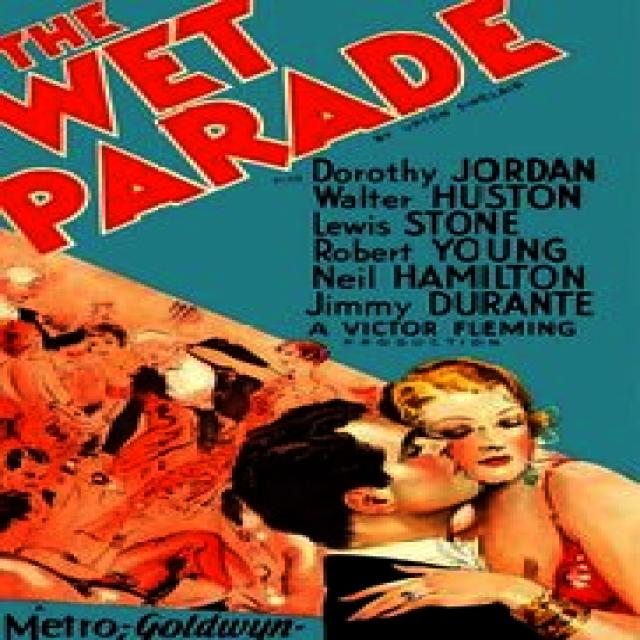movie-judul: (0, 0, 571, 258)
picture: (0, 231, 640, 639)
